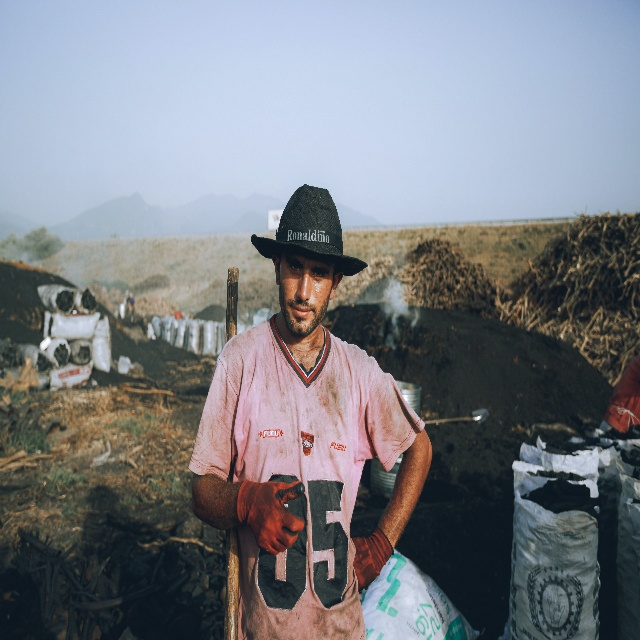Guantes: (235, 477, 305, 556), (352, 529, 394, 592)
